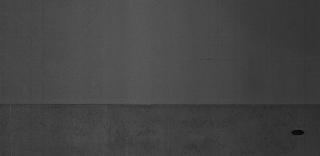punching hole: (290, 130, 306, 136)
silk spot: (3, 109, 284, 153)
welding line: (2, 100, 316, 108)
